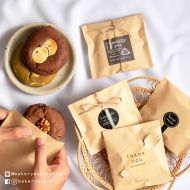Snack: (77, 11, 159, 80)
